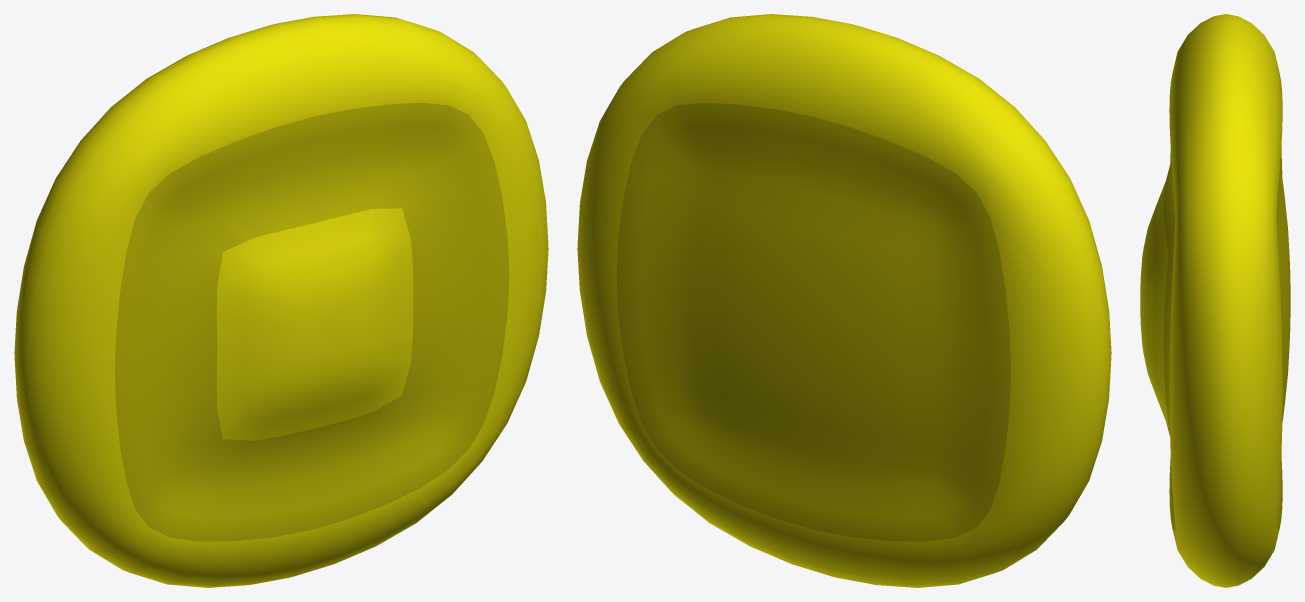
The model's file is coin-3d-x.fbx.
3 renders of one model, left to right at view 1: azimuth 30°, elevation 25°; view 2: azimuth 150°, elevation 25°; view 3: azimuth 270°, elevation 25°, orthographic. The views are drawn at different scales.
Visible parts, largest first — view 1: Cube; view 2: Cube; view 3: Cube.
Boxes of the visible parts, left/top/right/bottom form: Cube: left=14, top=14, right=548, bottom=587; Cube: left=577, top=14, right=1111, bottom=587; Cube: left=1140, top=14, right=1290, bottom=587.
Size of the model in its own units: 53.53 by 199 by 199.
